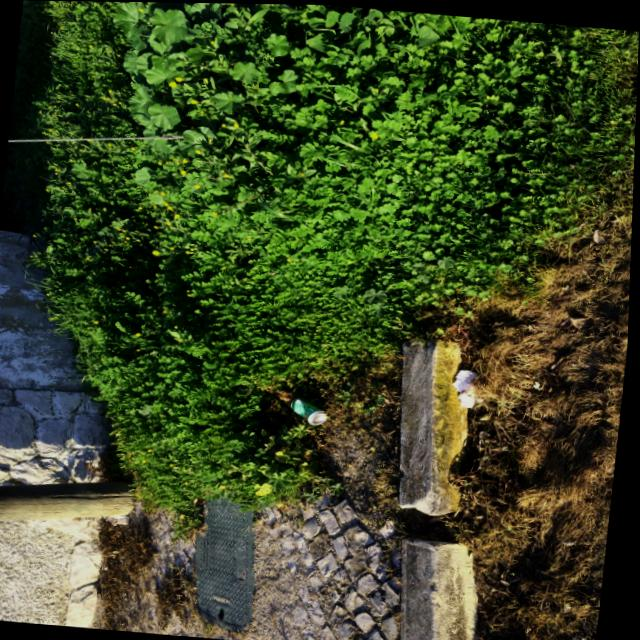Can-Metal: (285, 392, 342, 430)
Paper: (445, 357, 493, 413)
